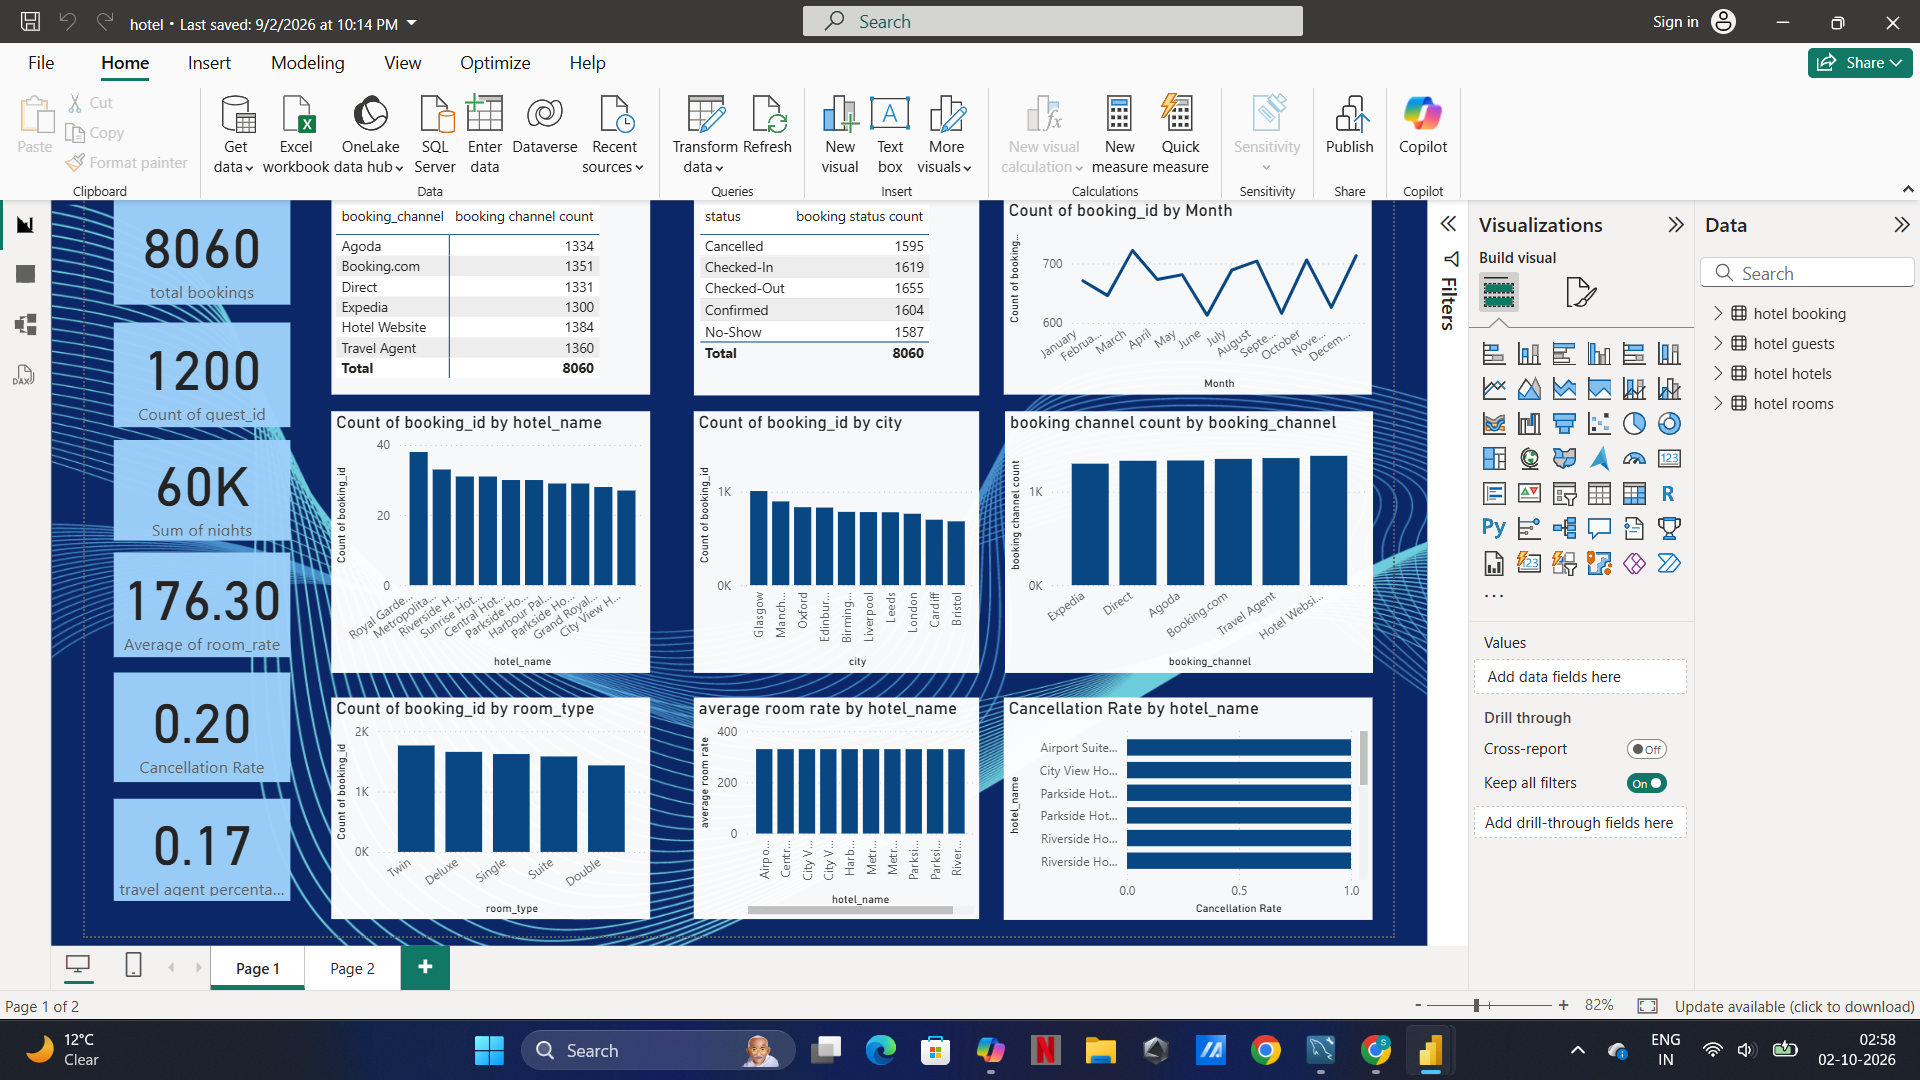

Layout of this report page (visuals, bound fields, positions):
{"tool":"powerbi","page":{"name":"Page 1","canvas":[1280,720],"ordinal":0},"visuals":[{"type":"card","fields":{"Values":["hotel booking.total bookings"]},"box":[28,0,173.2,102.4],"z":0},{"type":"card","fields":{"Values":["Count(hotel guests.guest_id)"]},"box":[28,119.5,173.2,102.4],"z":1000},{"type":"card","fields":{"Values":["Sum(hotel booking.nights)"]},"box":[28,235.4,173.2,98.8],"z":2000},{"type":"card","fields":{"Values":["Avg(hotel rooms.room_rate)"]},"box":[28,345.1,173.2,102.4],"z":3000},{"type":"card","fields":{"Values":["hotel booking.Cancellation Rate"]},"box":[28,462.2,173.2,107.3],"z":4000},{"type":"pivotTable","fields":{"Rows":["hotel booking.booking_channel"],"Values":["hotel booking.booking channel count"]},"box":[241.5,0,312.2,190.2],"z":5000},{"type":"card","fields":{"Values":["hotel booking.travel agent percentage"]},"box":[28,585.4,173.2,100],"z":6000},{"type":"lineChart","fields":{"Y":["CountNonNull(hotel booking.booking_id)"],"Category":["hotel booking.booking_date.Variation.Date Hierarchy.Month"]},"box":[898.8,0,359.8,190.2],"z":7000},{"type":"columnChart","fields":{"Category":["hotel hotels.hotel_name"],"Y":["CountNonNull(hotel booking.booking_id)"]},"box":[241.5,206.1,312.2,256.1],"z":8000},{"type":"clusteredColumnChart","fields":{"Category":["hotel hotels.city"],"Y":["CountNonNull(hotel booking.booking_id)"]},"box":[595.1,206.1,279.3,256.1],"z":9000},{"type":"tableEx","fields":{"Values":["hotel booking.status","hotel booking.booking status count"]},"box":[595.1,0,279.3,191.5],"z":10000},{"type":"clusteredColumnChart","fields":{"Y":["hotel booking.booking channel count"],"Category":["hotel booking.booking_channel"]},"box":[900,206.1,359.8,256.1],"z":11000},{"type":"clusteredColumnChart","fields":{"Category":["hotel rooms.room_type"],"Y":["CountNonNull(hotel booking.booking_id)"]},"box":[241.5,486.6,312.2,217.1],"z":12000},{"type":"columnChart","fields":{"Category":["hotel hotels.hotel_name"],"Y":["hotel booking.average room rate"]},"box":[595.1,486.6,279.3,217.1],"z":13000},{"type":"clusteredBarChart","fields":{"Category":["hotel hotels.hotel_name"],"Y":["hotel booking.Cancellation Rate"]},"box":[898.9,486.2,360.9,217.2],"z":14000}]}

Visuals, with their boxes on the page's 1280x720 design canvas (x1, y1, x2, y2). These are canvas units, not pixel positions in the 1920x1080 screenshot, which may show the page scaled, cropped or inside an application window:
card - hotel booking.total bookings: (left=28, top=0, right=201, bottom=102)
card - Count(hotel guests.guest_id): (left=28, top=120, right=201, bottom=222)
card - Sum(hotel booking.nights): (left=28, top=235, right=201, bottom=334)
card - Avg(hotel rooms.room_rate): (left=28, top=345, right=201, bottom=448)
card - hotel booking.Cancellation Rate: (left=28, top=462, right=201, bottom=570)
pivotTable - hotel booking.booking_channel x hotel booking.booking channel count: (left=242, top=0, right=554, bottom=190)
card - hotel booking.travel agent percentage: (left=28, top=585, right=201, bottom=685)
lineChart - CountNonNull(hotel booking.booking_id) x hotel booking.booking_date.Variation.Date Hierarchy.Month: (left=899, top=0, right=1259, bottom=190)
columnChart - hotel hotels.hotel_name x CountNonNull(hotel booking.booking_id): (left=242, top=206, right=554, bottom=462)
clusteredColumnChart - hotel hotels.city x CountNonNull(hotel booking.booking_id): (left=595, top=206, right=874, bottom=462)
tableEx - hotel booking.status x hotel booking.booking status count: (left=595, top=0, right=874, bottom=192)
clusteredColumnChart - hotel booking.booking channel count x hotel booking.booking_channel: (left=900, top=206, right=1260, bottom=462)
clusteredColumnChart - hotel rooms.room_type x CountNonNull(hotel booking.booking_id): (left=242, top=487, right=554, bottom=704)
columnChart - hotel hotels.hotel_name x hotel booking.average room rate: (left=595, top=487, right=874, bottom=704)
clusteredBarChart - hotel hotels.hotel_name x hotel booking.Cancellation Rate: (left=899, top=486, right=1260, bottom=703)
